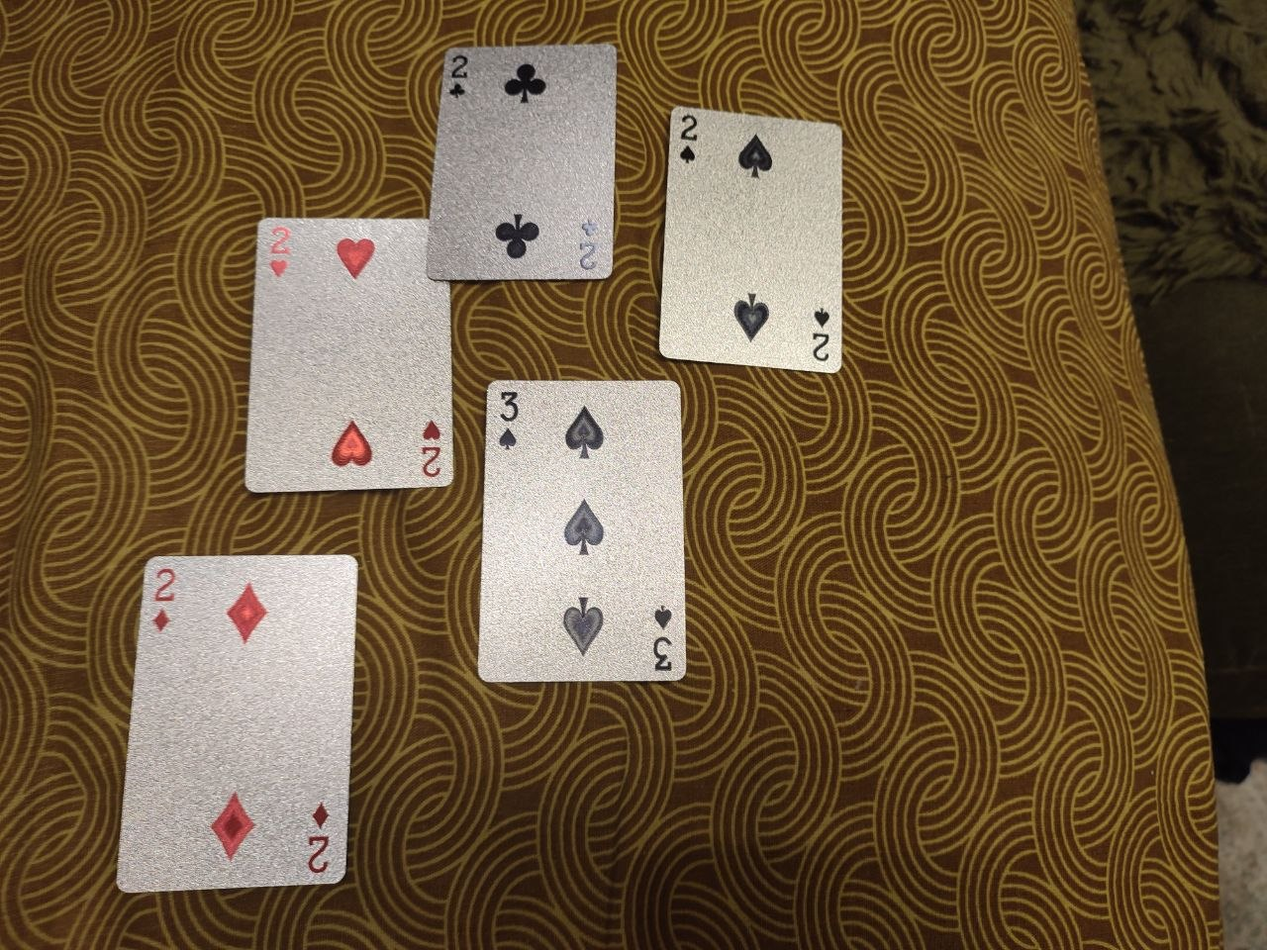2C: (424, 43, 617, 282)
2D: (113, 552, 361, 896)
2H: (243, 215, 458, 492)
2S: (655, 104, 846, 375)
3S: (475, 379, 689, 682)
